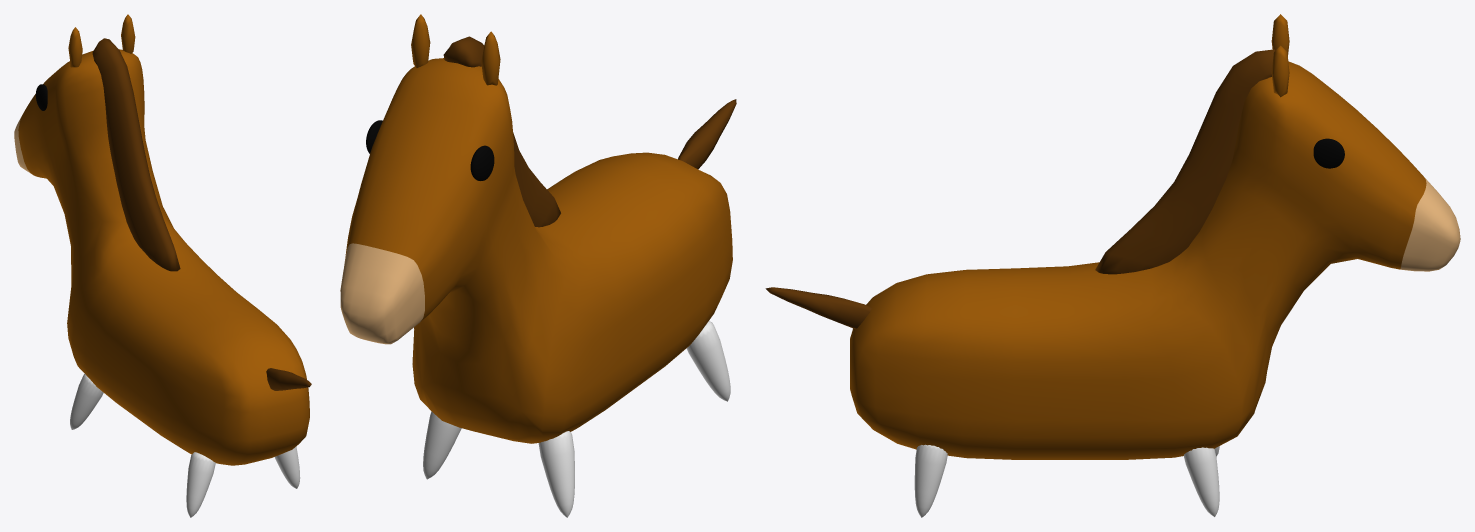
File: umasika.fbx
3 renders of one model, left to right at view 1: azimuth 30°, elevation 25°; view 2: azimuth 150°, elevation 25°; view 3: azimuth 270°, elevation 25°, orthographic. The views are drawn at different scales.
Parts seen in each view (by area): view 1: pCube1, pCube7, pCylinder2, pCylinder4, pCube4, pCylinder1, pCube6, pCube5; view 2: pCube1, pCube8, pCube7, pCylinder4, pCylinder2, pCube4, pCylinder3, pCube6, pCube5, pSphere1; view 3: pCube1, pCube7, pCube8, pCube4, pCylinder1, pCylinder3, pSphere2.
Part boxes in pixels (x1,y1,x2,y2): pCube1: (18, 49, 309, 465); pCube7: (92, 38, 180, 271); pCylinder2: (186, 452, 215, 517); pCylinder4: (70, 374, 103, 429); pCube4: (266, 368, 311, 390); pCylinder1: (274, 446, 300, 488); pCube6: (68, 27, 82, 67); pCube5: (121, 14, 135, 53); pCube1: (345, 58, 732, 443); pCube8: (340, 243, 424, 344); pCube7: (443, 36, 560, 227); pCylinder4: (538, 431, 574, 517); pCylinder2: (686, 321, 730, 401); pCube4: (678, 99, 736, 169); pCylinder3: (423, 411, 461, 479); pCube6: (481, 31, 500, 85); pCube5: (411, 14, 430, 67); pSphere1: (470, 145, 494, 180); pCube1: (850, 61, 1426, 459); pCube7: (1095, 49, 1275, 274); pCube8: (1400, 177, 1460, 271); pCube4: (765, 287, 871, 328); pCylinder1: (914, 444, 947, 517); pCylinder3: (1183, 447, 1219, 516); pSphere2: (1313, 138, 1344, 168).
Bounding box in the file's own units: 1.4 × 4.18 × 5.7.
